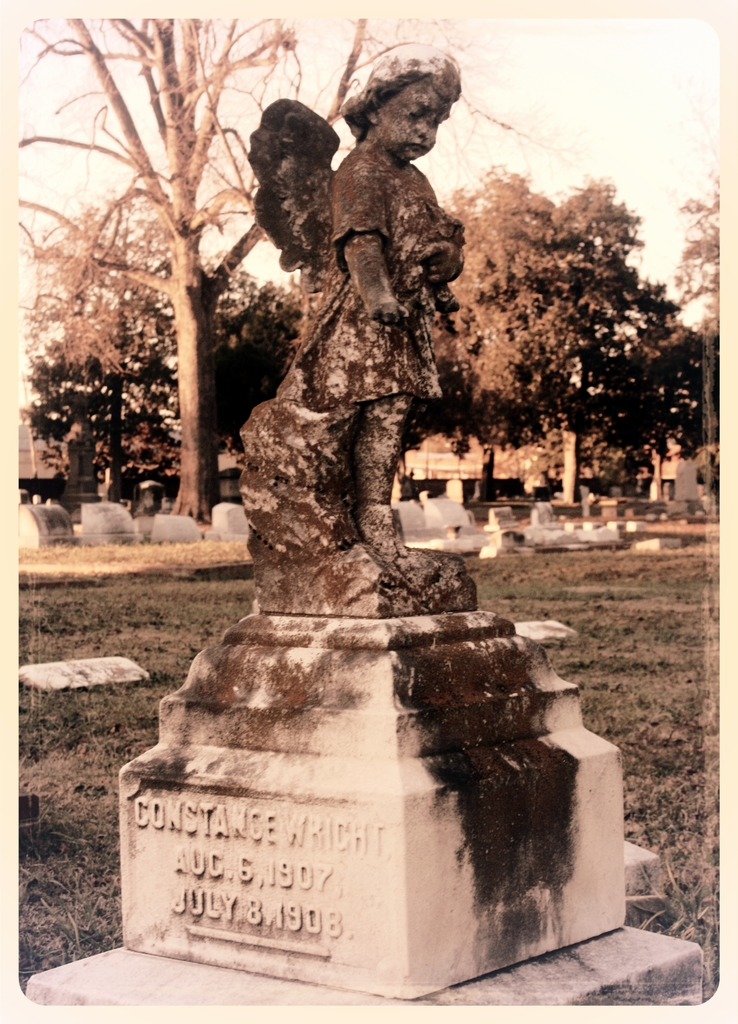Tree: (1, 25, 343, 522), (481, 129, 705, 515), (682, 176, 732, 352)
